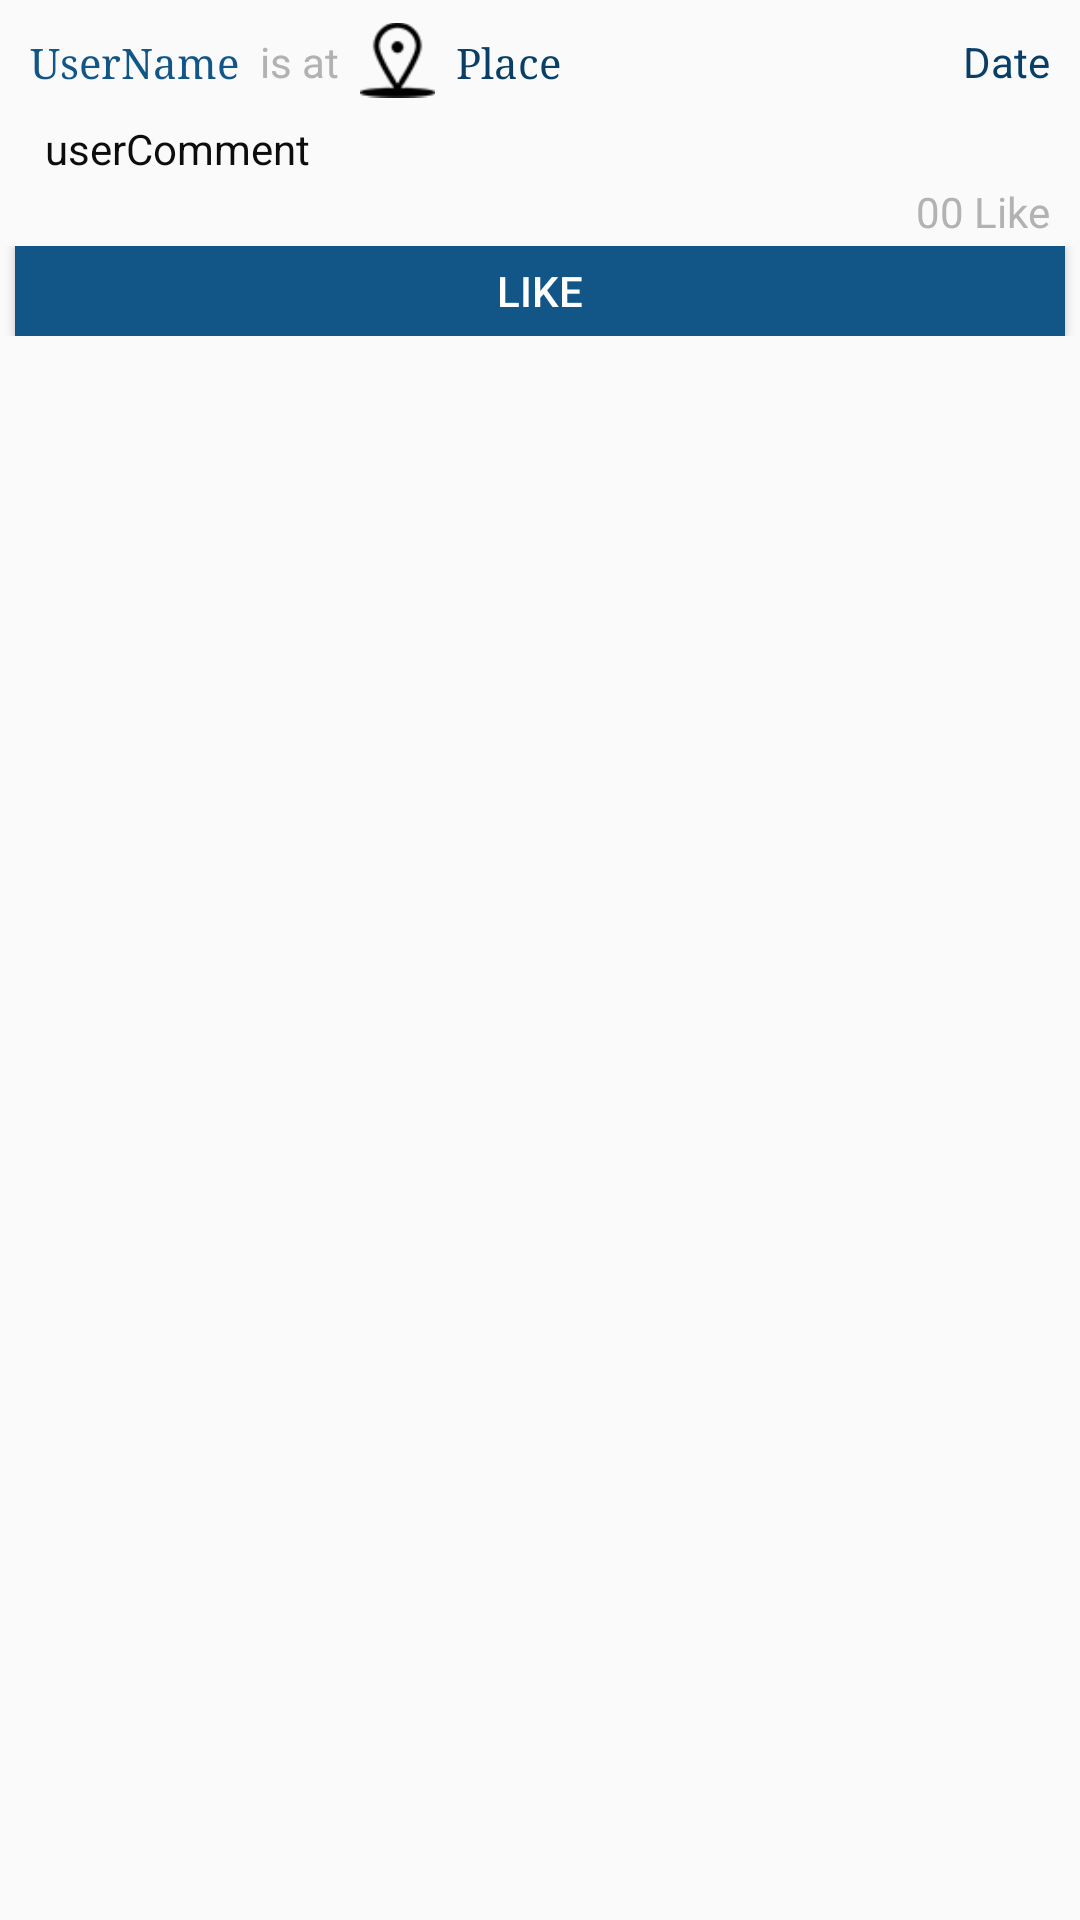

Where to tap for icons on this 1080px×1920px app screen, as (x=x, y=y):
check in: (x=397, y=60)
